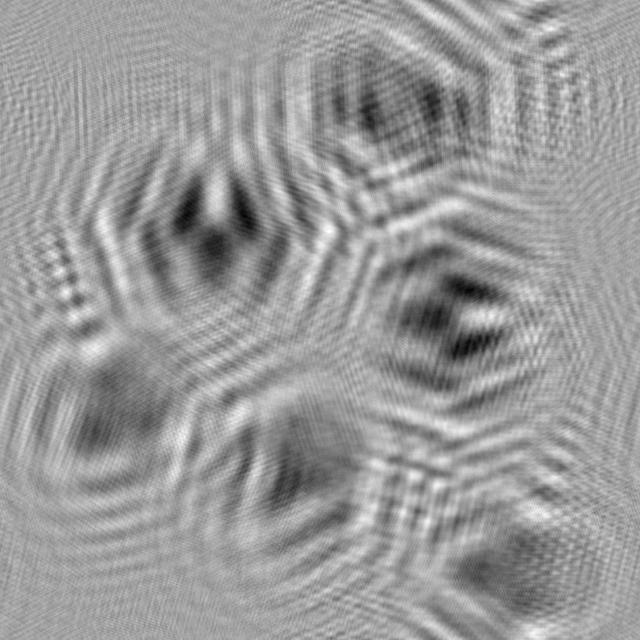V: (166, 343, 397, 595)
W: (51, 93, 346, 372), (306, 159, 580, 446)
Y: (373, 421, 619, 640), (0, 313, 216, 552)
Z: (260, 0, 516, 240)
